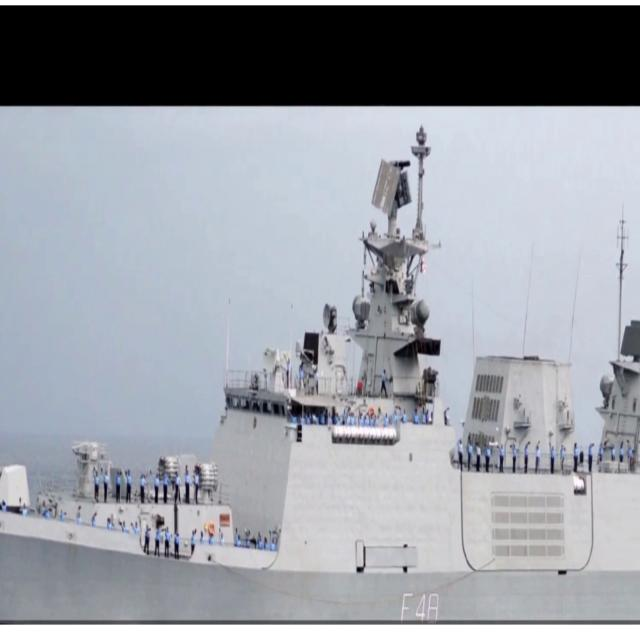OCR: (397, 586, 449, 623)
